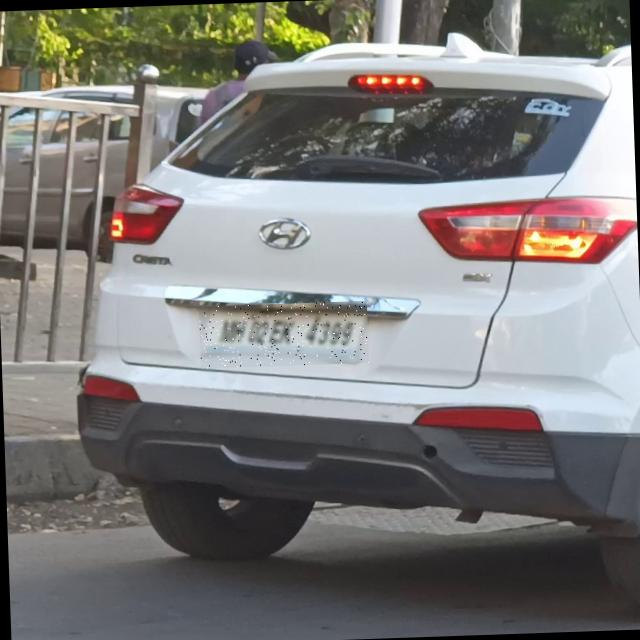Plate: (200, 302, 370, 370)
